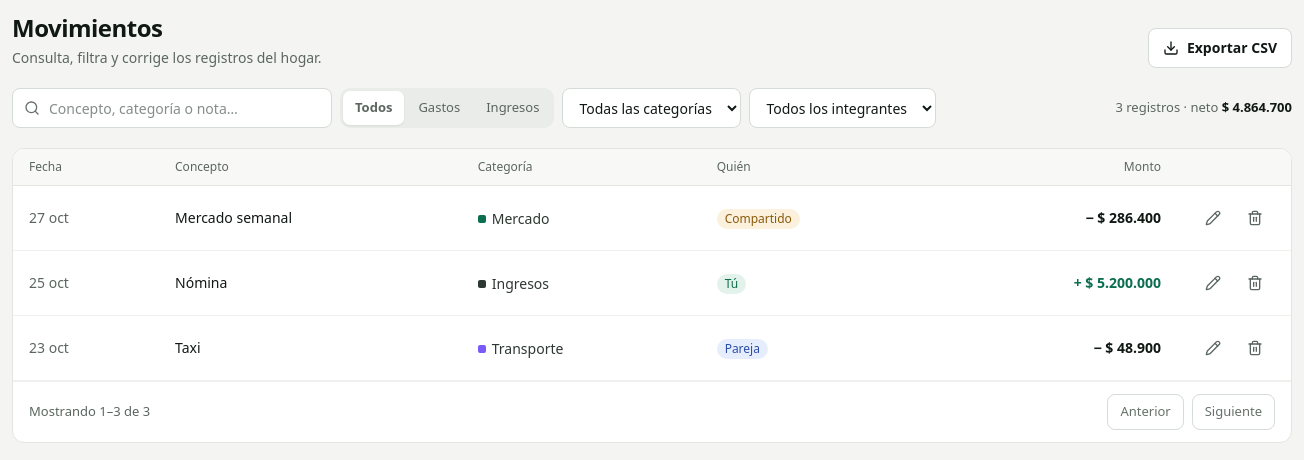
Test: TransactionsView filters, pagination and export › combines the category and owner filters with search and type
Step 1. Select "Transporte" in the 1st dropdown named "Categoría" → (652, 108), box [562,88,741,128]
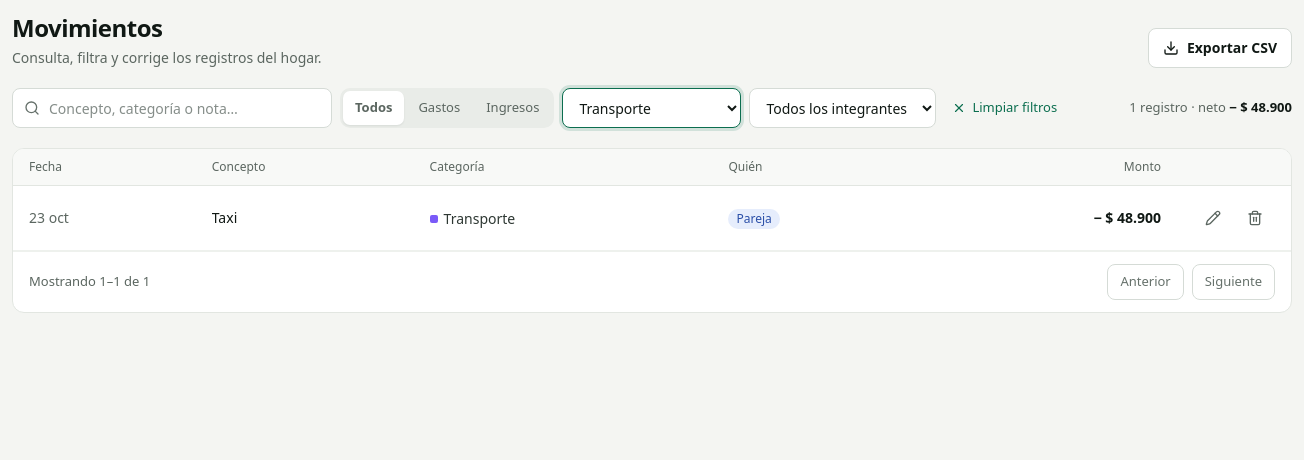
Expected: the row "23 oct Taxi Transporte Pareja − $ 48.900" is shown, [13,186,1291,250]
Step 2. Select "Tú" in the 2nd dropdown named "Quién" → (843, 108), box [749,88,936,128]
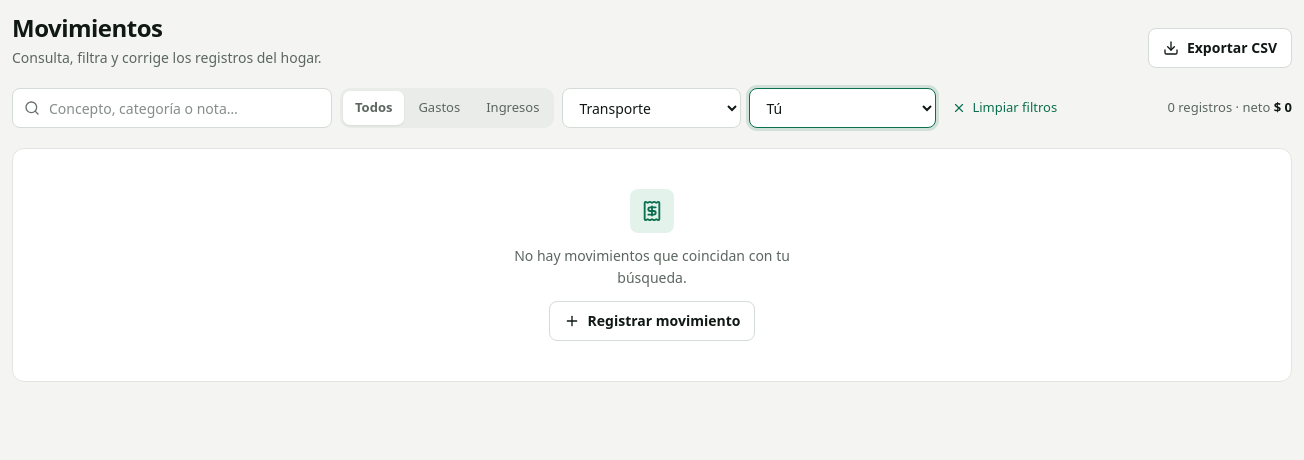
Expected: the table is gone
Step 3. Click the button "Limpiar filtros" → (1005, 108), box [944,88,1065,128]
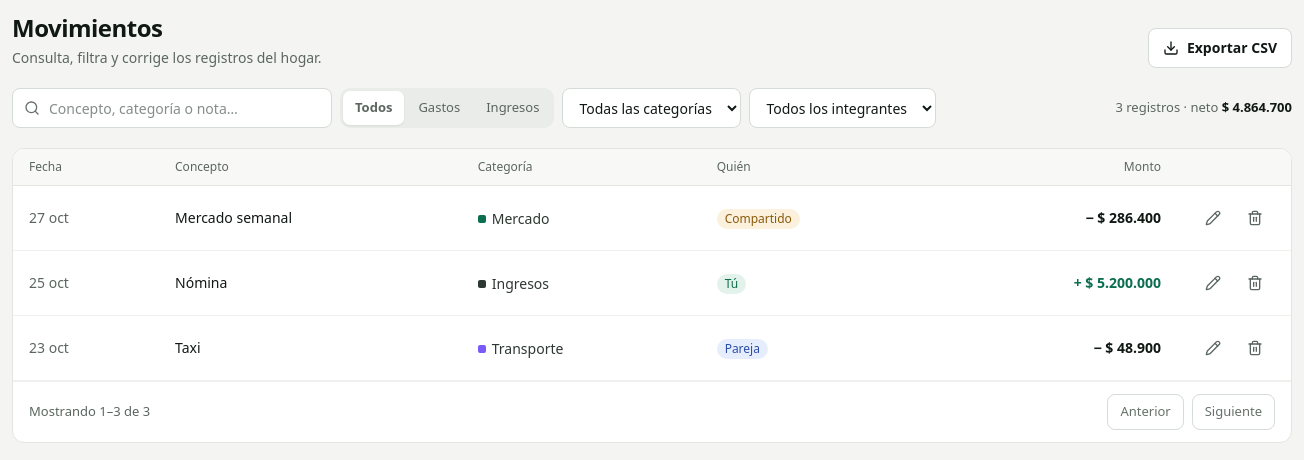
Step 4. Select "Compartido" in the 2nd dropdown named "Quién" → (843, 108), box [749,88,936,128]
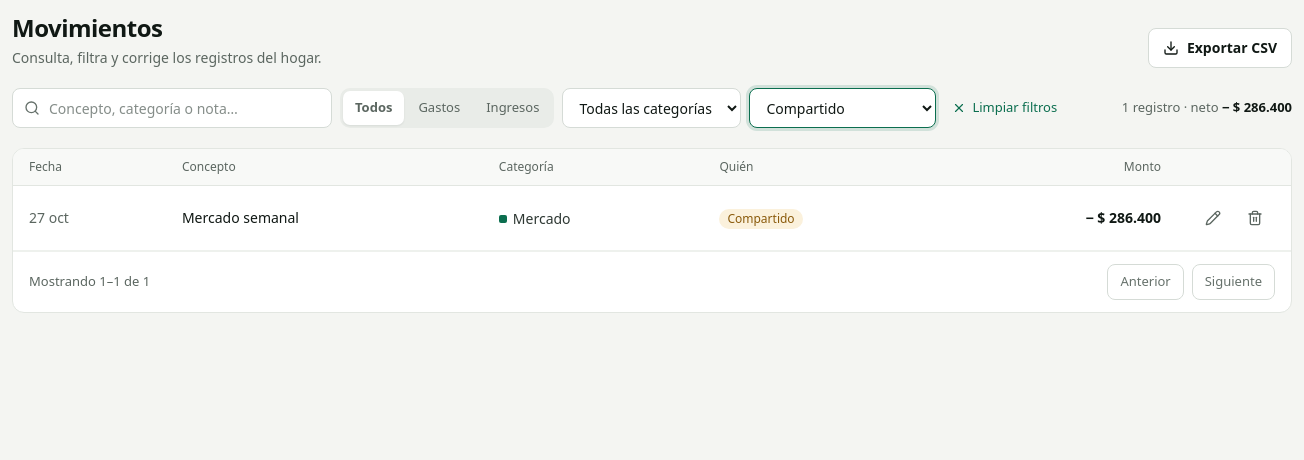
Step 5. Type "mercado" into the search field named "Buscar movimientos" → (172, 108), box [12,88,332,128]
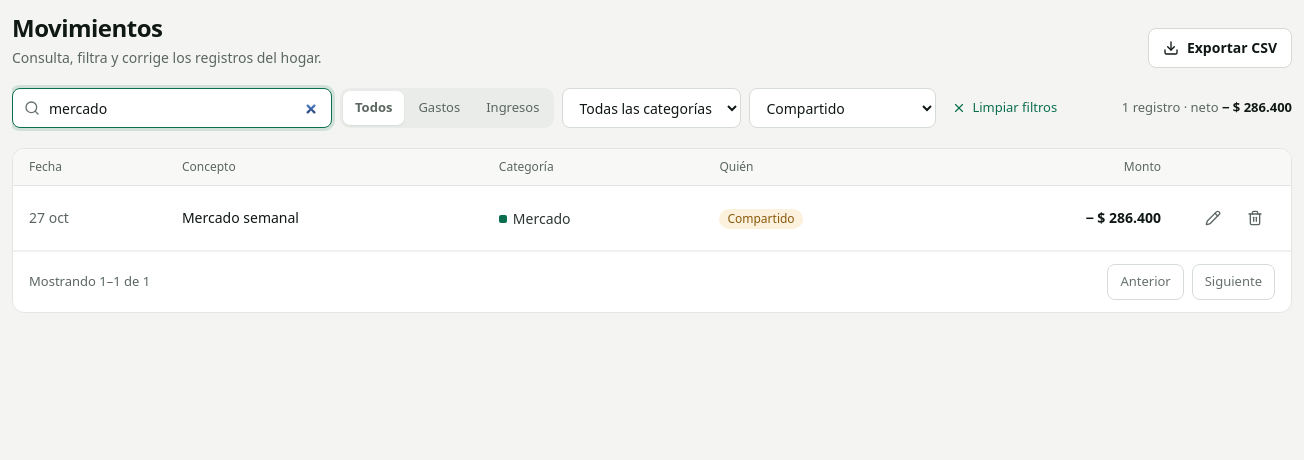
Step 6. Click the button "Ingresos" → (513, 108), box [474,91,551,125]
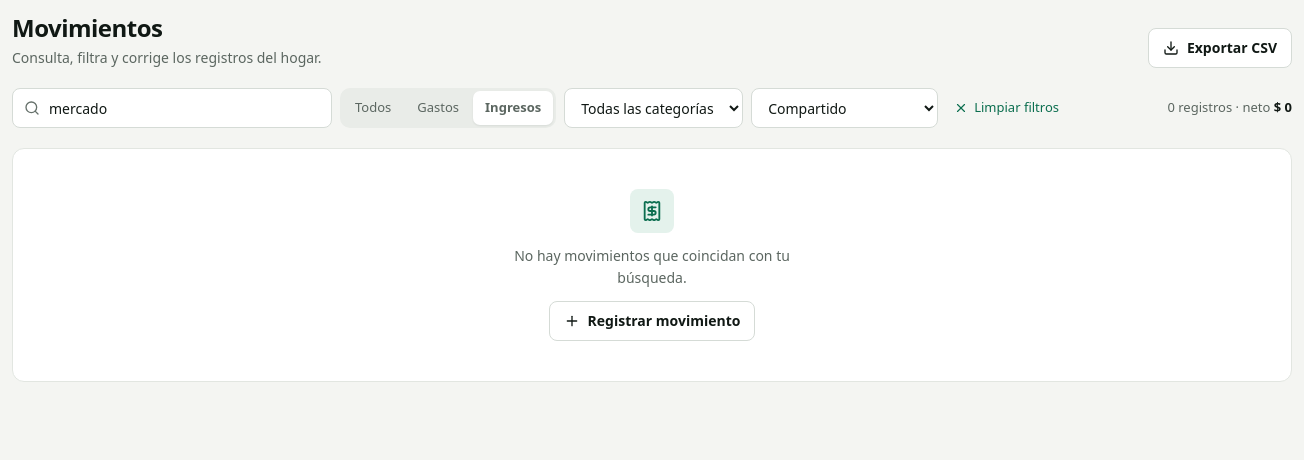
Expected: the table is gone
